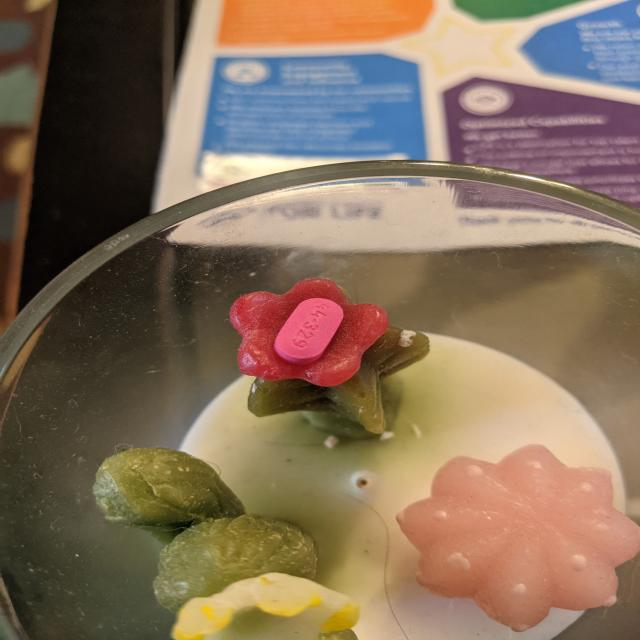non-organic waste: (272, 296, 346, 367)
